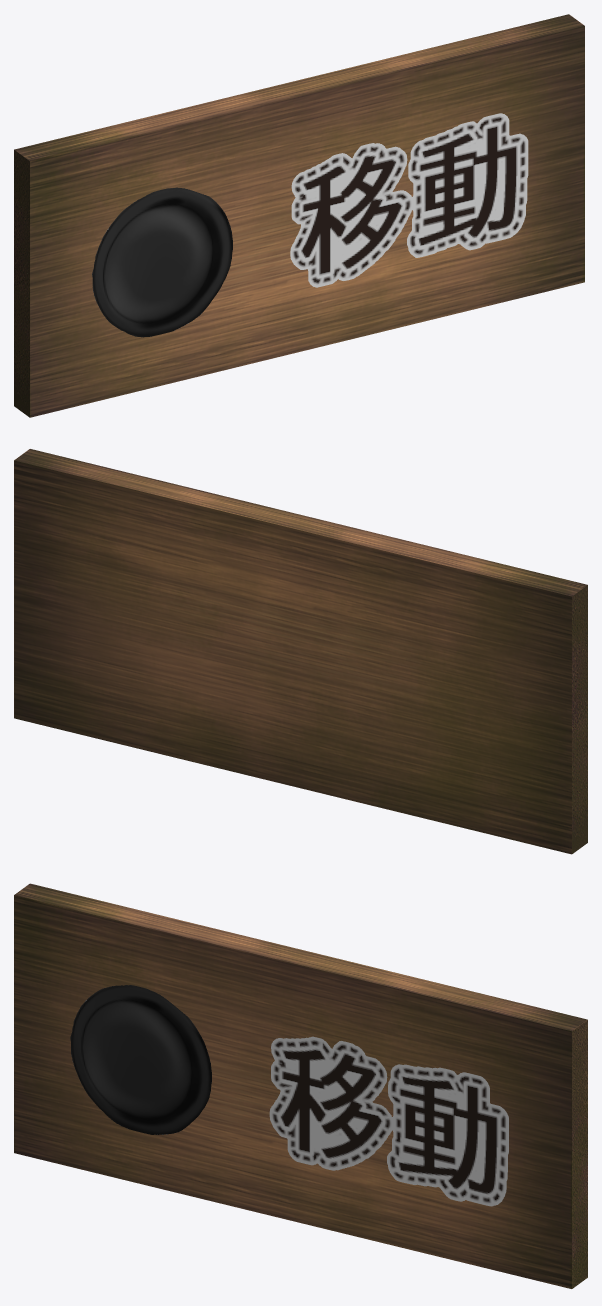
Rendered from tutorial_idou.fbx.
3 renders of one model, top to bottom at view 1: azimuth 30°, elevation 25°; view 2: azimuth 150°, elevation 25°; view 3: azimuth 330°, elevation 25°, orthographic.
Visible parts, largest first — view 1: ita, idou; view 2: ita; view 3: ita, idou.
Boxes of the visible parts, x1,y1,x2,y2 form: ita: [14, 14, 584, 417]; idou: [92, 113, 528, 337]; ita: [14, 449, 587, 854]; ita: [14, 883, 587, 1288]; idou: [70, 985, 508, 1206].
Size of the model in its own units: 39.7 by 17.53 by 2.35.
2 materials, 2 textured.
